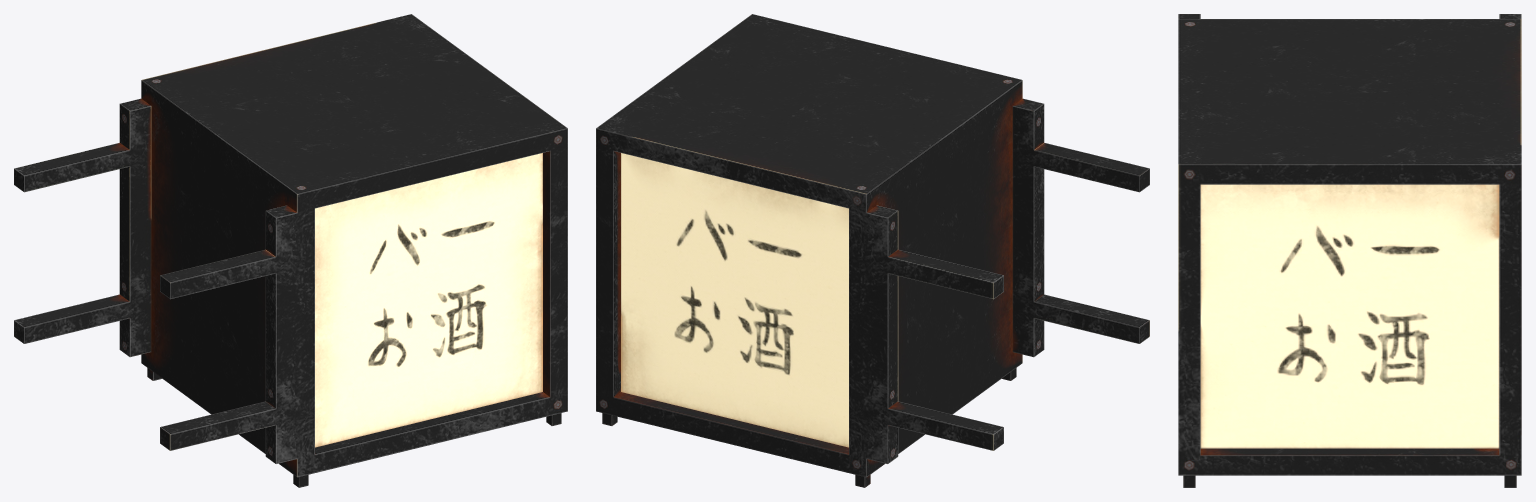
File: japanese_light_signage.glb
The picture shows the model from 3 angles, left to right: view 1: azimuth 30°, elevation 25°; view 2: azimuth 150°, elevation 25°; view 3: azimuth 270°, elevation 25°; orthographic projection. The views are drawn at different scales.
Parts seen in each view (by area): view 1: square; view 2: square; view 3: square.
Boxes of the visible parts, box(x1,y1,x2,y2) form: square: box(14, 14, 567, 487); square: box(596, 14, 1149, 487); square: box(1178, 14, 1521, 487).
Bounding box in the file's own units: 89.33 × 63.6 × 60.77.
Materials: 1 (1 with a texture image).
